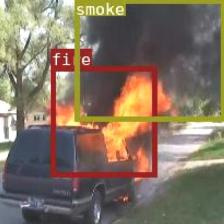fire: (50, 65, 156, 176)
smoke: (73, 0, 224, 120)
